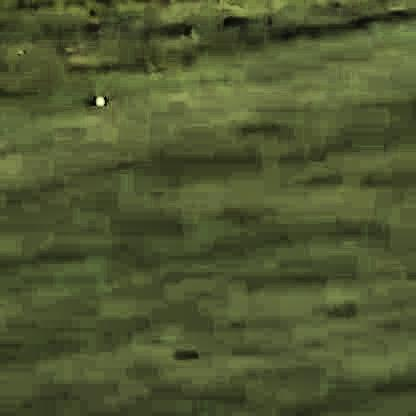golfball: (92, 95, 105, 105)
